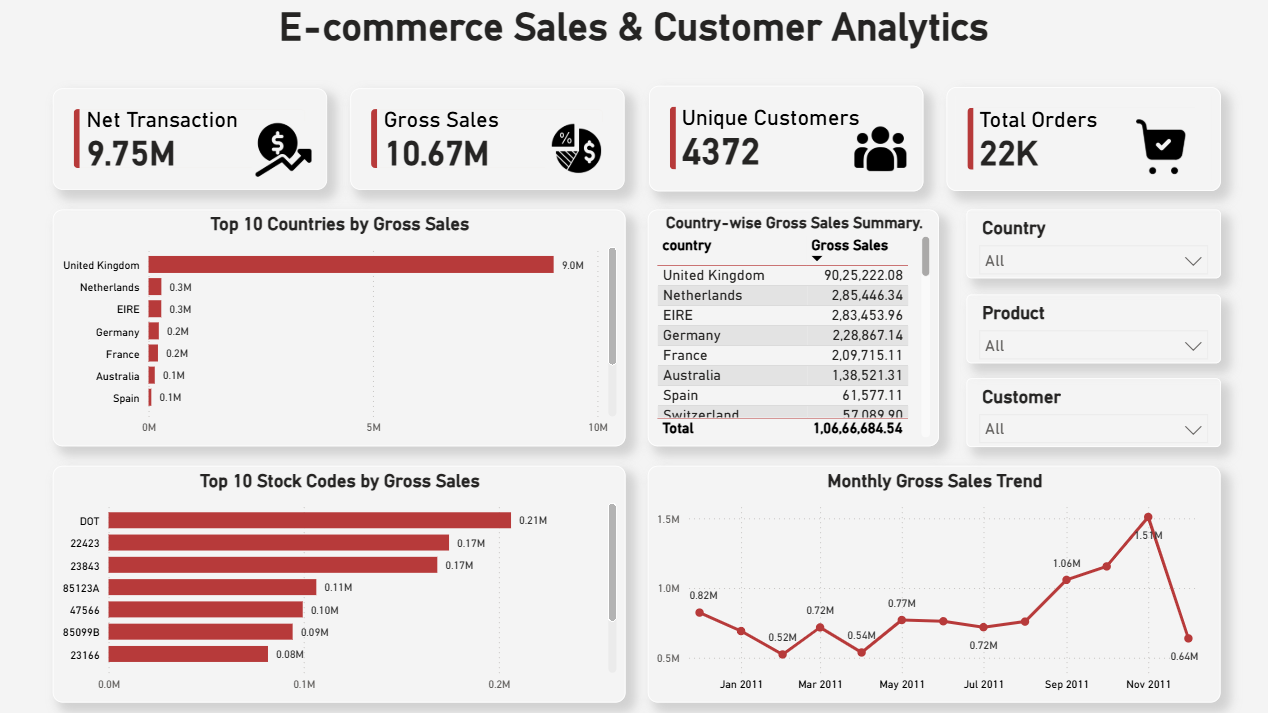

Layout of this report page (visuals, bound fields, positions):
{"tool":"powerbi","page":{"name":"Page 1","canvas":[1280,720],"ordinal":0},"visuals":[{"type":"cardVisual","fields":{"Data":["ecommerce_analytics online_retail_clean.Total Sales1"]},"box":[58.6,91.1,274.3,101.4],"z":0,"group":"g2"},{"type":"clusteredBarChart","title":"Top 10 Countries by Gross Sales","fields":{"Y":["ecommerce_analytics online_retail_clean.Total Sales"],"Category":["ecommerce_analytics online_retail_clean.country"]},"box":[58.6,212.9,572.9,237.1],"z":0},{"type":"cardVisual","fields":{"Data":["ecommerce_analytics online_retail_clean.Unique Customers"]},"box":[654.8,89,274.3,105.7],"z":1000,"group":"g1"},{"type":"cardVisual","fields":{"Data":["ecommerce_analytics online_retail_clean.Gross Sales"]},"box":[356.7,91.1,274.3,101.4],"z":1000,"group":"g4"},{"type":"cardVisual","fields":{"Data":["ecommerce_analytics online_retail_clean.Total Orders"]},"box":[952.9,89.7,274.3,104.3],"z":2000,"group":"g3"},{"type":"lineChart","title":"Monthly Gross Sales Trend","fields":{"Y":["ecommerce_analytics online_retail_clean.Total Sales"],"Category":["ecommerce_analytics online_retail_clean.invoice_date.Variation.Date Hierarchy.Year","ecommerce_analytics online_retail_clean.invoice_date.Variation.Date Hierarchy.Month"]},"box":[654.3,468.6,572.9,237.1],"z":2000},{"type":"clusteredBarChart","title":"Top 10 Stock Codes by Gross Sales","fields":{"Category":["ecommerce_analytics online_retail_clean.stock_code"],"Y":["ecommerce_analytics online_retail_clean.Total Sales"]},"box":[58.6,468.6,572.9,237.1],"z":3000},{"type":"tableEx","title":"Country-wise Gross Sales Summary.","fields":{"Values":["ecommerce_analytics online_retail_clean.country","ecommerce_analytics online_retail_clean.Total Sales"]},"box":[654.3,212.9,291.4,237.1],"z":4000},{"type":"slicer","fields":{"Values":["ecommerce_analytics online_retail_clean.country"]},"box":[972.9,212.9,254.3,68.6],"z":5000},{"type":"slicer","fields":{"Values":["ecommerce_analytics online_retail_clean.description"]},"box":[972.9,297.1,254.3,68.6],"z":6000},{"type":"slicer","fields":{"Values":["ecommerce_analytics online_retail_clean.customer_id"]},"box":[972.9,381.4,254.3,68.6],"z":7000},{"type":"group","id":"g1","title":"Group 3","box":[654.8,89,274.3,105.7],"z":8000},{"type":"group","id":"g2","title":"Group 1","box":[58.6,91.1,274.3,101.4],"z":10000},{"type":"textbox","box":[0,2.5,1280,58.8],"z":11000},{"type":"image","box":[1130.2,115.9,74.3,65.7],"z":11500,"group":"g3"},{"type":"group","id":"g3","title":"Group 2","box":[952.9,89.7,274.3,104.3],"z":11501},{"type":"image","box":[257.2,124,64.3,55.7],"z":12000,"group":"g2"},{"type":"image","box":[551.5,125.2,62.9,52.9],"z":12000,"group":"g4"},{"type":"group","id":"g4","title":"Group 4","box":[356.7,91.1,274.3,101.4],"z":12001},{"type":"image","box":[849.4,126.2,72.9,51.4],"z":12500,"group":"g1"}]}

Visuals, with their boxes in screenshot pixels (x1, y1, x2, y2), scaled from the page's 1280x720 canvas onto the 1268x713 screenshot:
cardVisual - ecommerce_analytics online_retail_clean.Total Sales1: crop(58, 90, 330, 191)
"Top 10 Countries by Gross Sales" clusteredBarChart: crop(58, 211, 626, 446)
cardVisual - ecommerce_analytics online_retail_clean.Unique Customers: crop(649, 88, 920, 193)
cardVisual - ecommerce_analytics online_retail_clean.Gross Sales: crop(353, 90, 625, 191)
cardVisual - ecommerce_analytics online_retail_clean.Total Orders: crop(944, 89, 1216, 192)
"Monthly Gross Sales Trend" lineChart: crop(648, 464, 1216, 699)
"Top 10 Stock Codes by Gross Sales" clusteredBarChart: crop(58, 464, 626, 699)
"Country-wise Gross Sales Summary." tableEx: crop(648, 211, 937, 446)
slicer - ecommerce_analytics online_retail_clean.country: crop(964, 211, 1216, 279)
slicer - ecommerce_analytics online_retail_clean.description: crop(964, 294, 1216, 362)
slicer - ecommerce_analytics online_retail_clean.customer_id: crop(964, 378, 1216, 446)
"Group 3" group: crop(649, 88, 920, 193)
"Group 1" group: crop(58, 90, 330, 191)
textbox: crop(0, 2, 1267, 61)
image: crop(1120, 115, 1193, 180)
"Group 2" group: crop(944, 89, 1216, 192)
image: crop(255, 123, 318, 178)
image: crop(546, 124, 609, 176)
"Group 4" group: crop(353, 90, 625, 191)
image: crop(841, 125, 914, 176)
